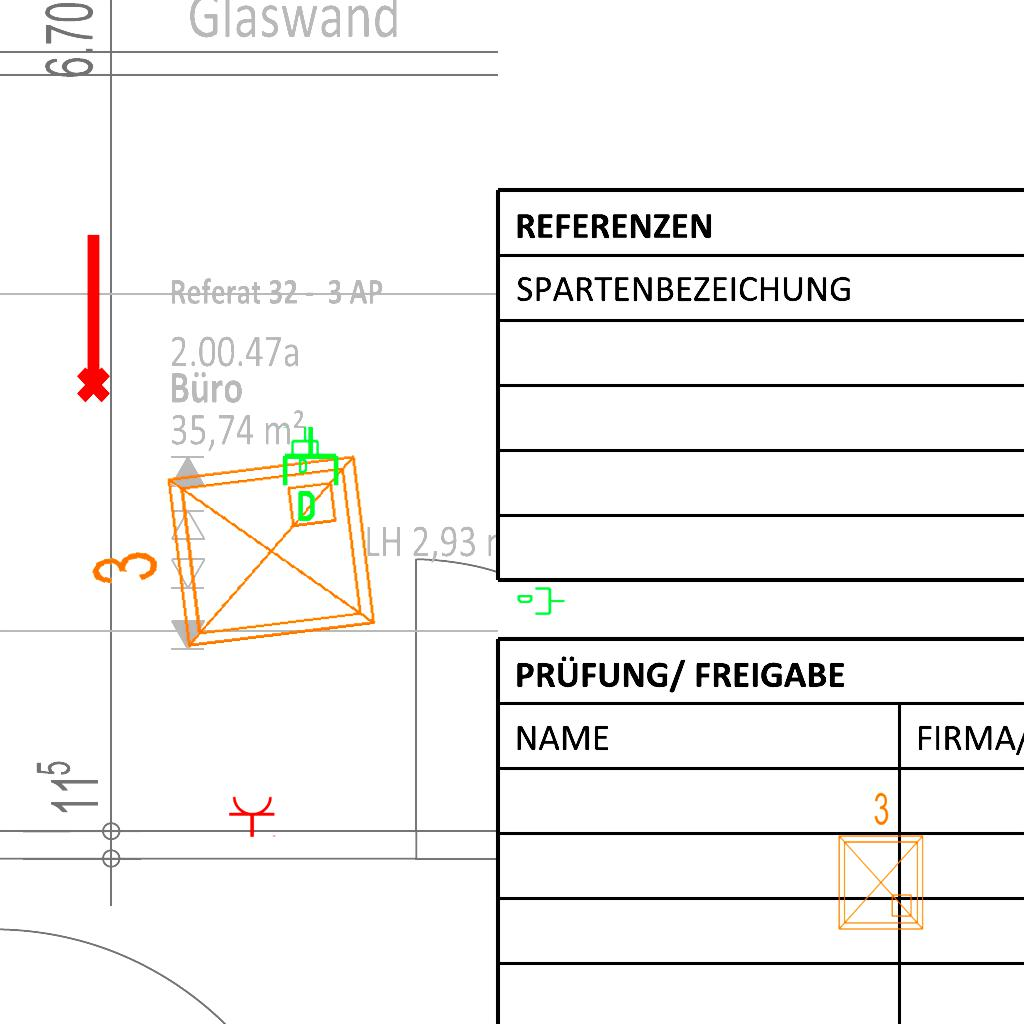ASR_Ansaugoeffnung: (68, 229, 114, 405)
Datenanschluss_einfach: (278, 424, 347, 524), (516, 585, 566, 619), (289, 425, 323, 475)
Einbaudownlights_LED_Konferenzraeume: (69, 438, 393, 682), (827, 787, 931, 937)
Schukosteckdose_einfach: (228, 795, 278, 838)
